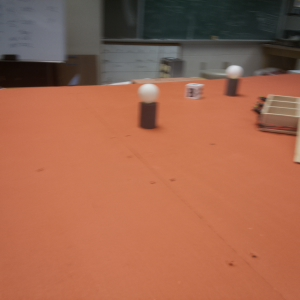obstacle: (136, 82, 161, 128), (224, 65, 241, 95)
side: (252, 91, 299, 131)
